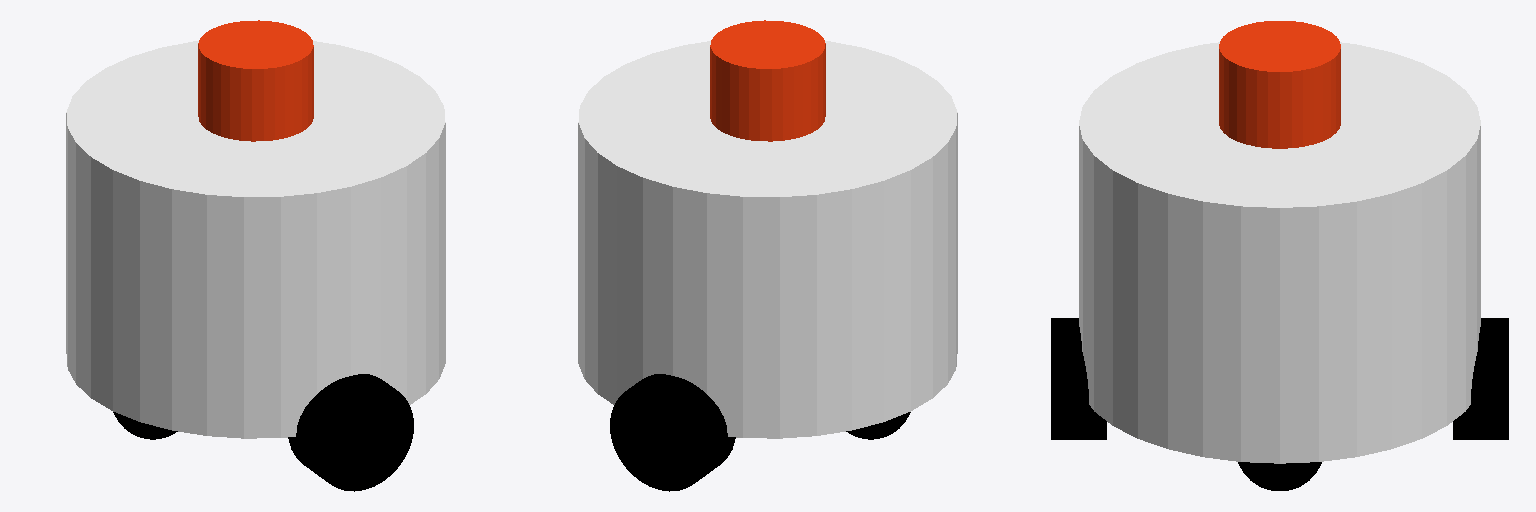
URDF robot description (swarm_bot):
<?xml version="1.0" ?>
<!-- =================================================================================== -->
<!-- |    This document was autogenerated by xacro from [local-path]/Documents/GitHub/swarm_robots/simulation_ws/install/robot_bringup/share/robot_bringup/description/swarm_bot.xacro | -->
<!-- |    EDITING THIS FILE BY HAND IS NOT RECOMMENDED                                 | -->
<!-- =================================================================================== -->
<robot name="swarm_bot">
  <!-- Specify some standard inertial calculations https://en.wikipedia.org/wiki/List_of_moments_of_inertia -->
  <!-- These make use of xacro's mathematical functionality -->
  <gazebo>
    <!-- <plugin name='diff_drive' filename='libgazebo_ros_diff_drive.so'> -->
    <plugin filename="libgazebo_ros_diff_drive.so" name="diff_drive_controller">
      <!-- ROS parameters -->
      <!-- <ros>
        <namespace>robot_namespace</namespace>
        <param name="robot_description" value="robot_description" />
      </ros> -->
      <!-- Wheel Information -->
      <left_joint>left_wheel_joint</left_joint>
      <right_joint>right_wheel_joint</right_joint>
      <wheel_separation>0.105</wheel_separation>
      <wheel_diameter>0.065</wheel_diameter>
      <!-- Limits -->
      <max_wheel_torque>200</max_wheel_torque>
      <max_wheel_acceleration>10.0</max_wheel_acceleration>
      <!-- Output -->
      <odometry_frame>odom</odometry_frame>
      <robot_base_frame>origin_link</robot_base_frame>
      <publish_odom>true</publish_odom>
      <publish_odom_tf>true</publish_odom_tf>
      <publish_wheel_tf>true</publish_wheel_tf>
    </plugin>
  </gazebo>
  <link name="laser_frame">
    <visual>
      <geometry>
        <cylinder length="0.045" radius="0.0325"/>
      </geometry>
      <material name="orange">
        <color rgba="1 0.3 0.1 1"/>
      </material>
    </visual>
    <collision>
      <geometry>
        <cylinder length="0.045" radius="0.0325"/>
      </geometry>
    </collision>
    <inertial>
      <origin rpy="0 0 0" xyz="0 0 0"/>
      <mass value="0.1"/>
      <inertia ixx="4.3281250000000005e-05" ixy="0.0" ixz="0.0" iyy="4.3281250000000005e-05" iyz="0.0" izz="5.281250000000001e-05"/>
    </inertial>
  </link>
  <joint name="laser_joint" type="fixed">
    <parent link="chassis"/>
    <child link="laser_frame"/>
    <origin rpy="0 0 0" xyz="0 0 0.205"/>
  </joint>
  <gazebo reference="laser_frame">
    <material>Gazebo/Orange</material>
    <sensor name="laser" type="ray">
      <pose> 0 0 0 0 0 0 </pose>
      <always_on>true</always_on>
      <visualize>true</visualize>
      <update_rate>10</update_rate>
      <ray>
        <scan>
          <horizontal>
            <samples>360</samples>
            <min_angle>-3.14</min_angle>
            <max_angle>3.14</max_angle>
          </horizontal>
        </scan>
        <range>
          <min>0.2</min>
          <max>12</max>
        </range>
      </ray>
      <plugin filename="libgazebo_ros_ray_sensor.so" name="laser_controller">
        <ros>
          <argument>~/out:=scan</argument>
        </ros>
        <output_type>sensor_msgs/LaserScan</output_type>
        <!-- <topicName>/scan</topicName> -->
        <frame_name>laser_frame</frame_name>
      </plugin>
    </sensor>
  </gazebo>
  <!-- LINKS -->
  <!-- Origin -->
  <link name="origin_link">
    </link>
  <!-- Base -->
  <link name="chassis">
    <visual>
      <!-- change the position of the visualization only, not the axis -->
      <origin rpy="0 0 0" xyz="0 0 0.1075"/>
      <geometry>
        <!-- unit/ meter -->
        <cylinder length="0.15" radius="0.107"/>
      </geometry>
      <material name="white">
        <color rgba="1 1 1 1"/>
      </material>
    </visual>
    <collision>
      <origin rpy="0 0 0" xyz="0 0 0.1075"/>
      <geometry>
        <cylinder length="0.15" radius="0.107"/>
      </geometry>
    </collision>
    <inertial>
      <origin rpy="0 0 0" xyz="0 0 0.1075"/>
      <mass value="0.5"/>
      <inertia ixx="0.002368625" ixy="0.0" ixz="0.0" iyy="0.002368625" iyz="0.0" izz="0.0028622499999999998"/>
    </inertial>
  </link>
  <gazebo reference="chassis">
    <material>Gazebo/White</material>
  </gazebo>
  <!-- Left Wheel -->
  <link name="right_wheel">
    <visual>
      <geometry>
        <cylinder length="0.03" radius="0.0325"/>
      </geometry>
      <material name="black">
        <color rgba="0.0 0.0 0.0 1.0"/>
      </material>
    </visual>
    <collision>
      <geometry>
        <cylinder length="0.03" radius="0.0325"/>
      </geometry>
    </collision>
    <inertial>
      <origin rpy="0 0 0" xyz="0 0 0"/>
      <mass value="0.2"/>
      <inertia ixx="6.78125e-05" ixy="0.0" ixz="0.0" iyy="6.78125e-05" iyz="0.0" izz="0.00010562500000000002"/>
    </inertial>
  </link>
  <gazebo reference="right_wheel">
    <material>Gazebo/Black</material>
  </gazebo>
  <!-- Right Wheel -->
  <link name="left_wheel">
    <visual>
      <geometry>
        <cylinder length="0.03" radius="0.0325"/>
      </geometry>
      <material name="black">
        <color rgba="0.0 0.0 0.0 1.0"/>
      </material>
    </visual>
    <collision>
      <geometry>
        <cylinder length="0.03" radius="0.0325"/>
      </geometry>
    </collision>
    <inertial>
      <origin rpy="0 0 0" xyz="0 0 0"/>
      <mass value="0.2"/>
      <inertia ixx="6.78125e-05" ixy="0.0" ixz="0.0" iyy="6.78125e-05" iyz="0.0" izz="0.00010562500000000002"/>
    </inertial>
  </link>
  <gazebo reference="left_wheel">
    <material>Gazebo/Black</material>
  </gazebo>
  <!-- Front Passive Wheel -->
  <link name="front_passive_wheel">
    <visual>
      <geometry>
        <sphere radius="0.024"/>
      </geometry>
      <material name="black">
        <color rgba="0.0 0.0 0.0 1.0"/>
      </material>
    </visual>
    <collision>
      <geometry>
        <sphere radius="0.024"/>
      </geometry>
    </collision>
    <inertial>
      <origin rpy="0 0 0" xyz="0 0 0"/>
      <mass value="0.1"/>
      <inertia ixx="0.00010000000000000005" ixy="0.0" ixz="0.0" iyy="0.00010000000000000005" iyz="0.0" izz="0.00010000000000000005"/>
    </inertial>
  </link>
  <gazebo reference="front_passive_wheel">
    <material>Gazebo/Black</material>
    <!-- reduce friction to make the wheels able to roll -->
    <mu1 value="0.001"/>
    <mu2 value="0.001"/>
  </gazebo>
  <!-- Back Passive Wheel -->
  <link name="back_passive_wheel">
    <visual>
      <geometry>
        <sphere radius="0.024"/>
      </geometry>
      <material name="black">
        <color rgba="0.0 0.0 0.0 1.0"/>
      </material>
    </visual>
    <collision>
      <geometry>
        <sphere radius="0.024"/>
      </geometry>
    </collision>
    <inertial>
      <origin rpy="0 0 0" xyz="0 0 0"/>
      <mass value="0.1"/>
      <inertia ixx="2.3040000000000006e-05" ixy="0.0" ixz="0.0" iyy="2.3040000000000006e-05" iyz="0.0" izz="2.3040000000000006e-05"/>
    </inertial>
  </link>
  <gazebo reference="back_passive_wheel">
    <material>Gazebo/Black</material>
    <mu1 value="0.001"/>
    <mu2 value="0.001"/>
  </gazebo>
  <!-- JOINTS-->
  <!-- Base -->
  <joint name="origin_joint" type="fixed">
    <parent link="origin_link"/>
    <child link="chassis"/>
    <origin xyz="0 0 -0.0325"/>
  </joint>
  <!-- Left Wheel -->
  <joint name="right_wheel_joint" type="continuous">
    <parent link="origin_link"/>
    <child link="right_wheel"/>
    <!-- rotate wheel 90 deg around x-axis -->
    <origin rpy="-1.5707963267948966 0 0" xyz="0 -0.107 0"/>
    <axis xyz="0 0 1"/>
  </joint>
  <!-- Right Wheel -->
  <joint name="left_wheel_joint" type="continuous">
    <parent link="origin_link"/>
    <child link="left_wheel"/>
    <origin rpy="1.5707963267948966 0 0" xyz="0 0.107 0"/>
    <axis xyz="0 0 -1"/>
  </joint>
  <!-- Front Passive Wheel -->
  <joint name="front_passive_wheel_joint" type="fixed">
    <parent link="origin_link"/>
    <child link="front_passive_wheel"/>
    <origin rpy="0 0 0" xyz="0.067 0 -0.0085"/>
  </joint>
  <!-- Back Passive Wheel -->
  <joint name="back_passive_wheel_joint" type="fixed">
    <parent link="origin_link"/>
    <child link="back_passive_wheel"/>
    <origin rpy="0 0 0" xyz="-0.067 0 -0.0083"/>
  </joint>
</robot>

--- What the picture shows (computed from the rendered views, not written in the file) ---
The picture shows the robot from 3 angles, left to right: view 1: azimuth 30°, elevation 25°; view 2: azimuth 150°, elevation 25°; view 3: azimuth 270°, elevation 25°; orthographic projection.
Model swarm_bot with 7 links and 6 joints (2 continuous, 4 fixed), rooted at origin_link, posed all joints at 0.
Visible links, largest first — view 1: chassis, laser_frame, right_wheel, back_passive_wheel; view 2: chassis, laser_frame, left_wheel, back_passive_wheel; view 3: chassis, laser_frame, right_wheel, left_wheel, front_passive_wheel.
Link boxes in pixels (x1,y1,x2,y2): chassis: [66, 41, 445, 438]; laser_frame: [198, 20, 313, 141]; right_wheel: [288, 374, 413, 491]; back_passive_wheel: [113, 412, 177, 439]; chassis: [578, 41, 957, 438]; laser_frame: [710, 20, 825, 141]; left_wheel: [610, 374, 735, 491]; back_passive_wheel: [846, 412, 910, 439]; chassis: [1079, 42, 1480, 463]; laser_frame: [1219, 21, 1340, 148]; right_wheel: [1051, 318, 1106, 439]; left_wheel: [1453, 318, 1508, 439]; front_passive_wheel: [1238, 462, 1321, 490].
Bounding box of the posed robot: 0.214 × 0.244 × 0.2275 m (x, y, z).
Geometry: primitives only (box / cylinder / sphere), no mesh files.
